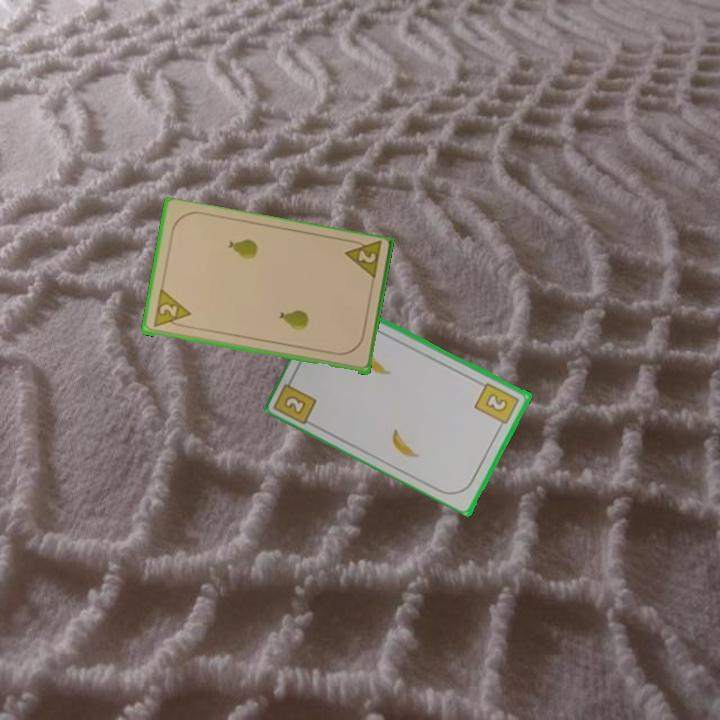2b: (472, 379, 522, 431), (280, 392, 309, 417)
2p: (341, 236, 384, 284), (149, 287, 193, 331)
